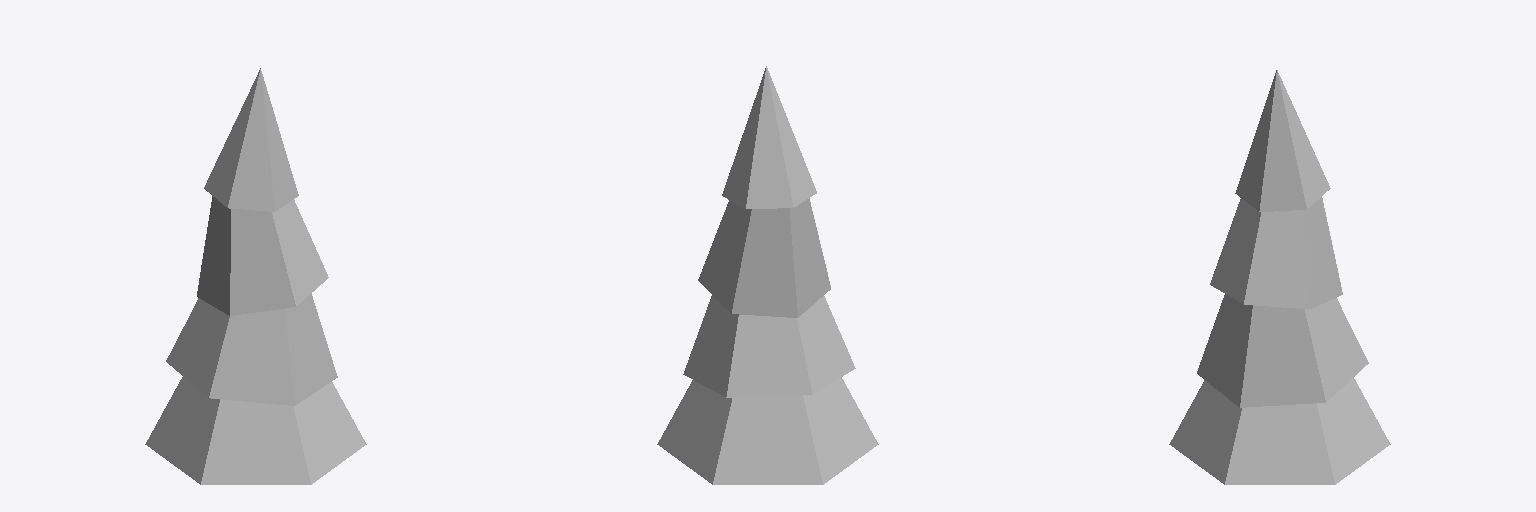
File: tree_pineGroundB.obj
The picture shows the model from 3 angles: view 1: azimuth 30°, elevation 25°; view 2: azimuth 150°, elevation 25°; view 3: azimuth 270°, elevation 25°; orthographic projection.
Visible parts, largest first — view 1: tree_pineGroundB; view 2: tree_pineGroundB; view 3: tree_pineGroundB.
Boxes of the visible parts, <box> form: tree_pineGroundB: <box>145,68,366,484</box>; tree_pineGroundB: <box>657,66,878,484</box>; tree_pineGroundB: <box>1169,70,1390,484</box>.
Bounding box in the file's own units: 0.4804 × 1.04 × 0.5547.